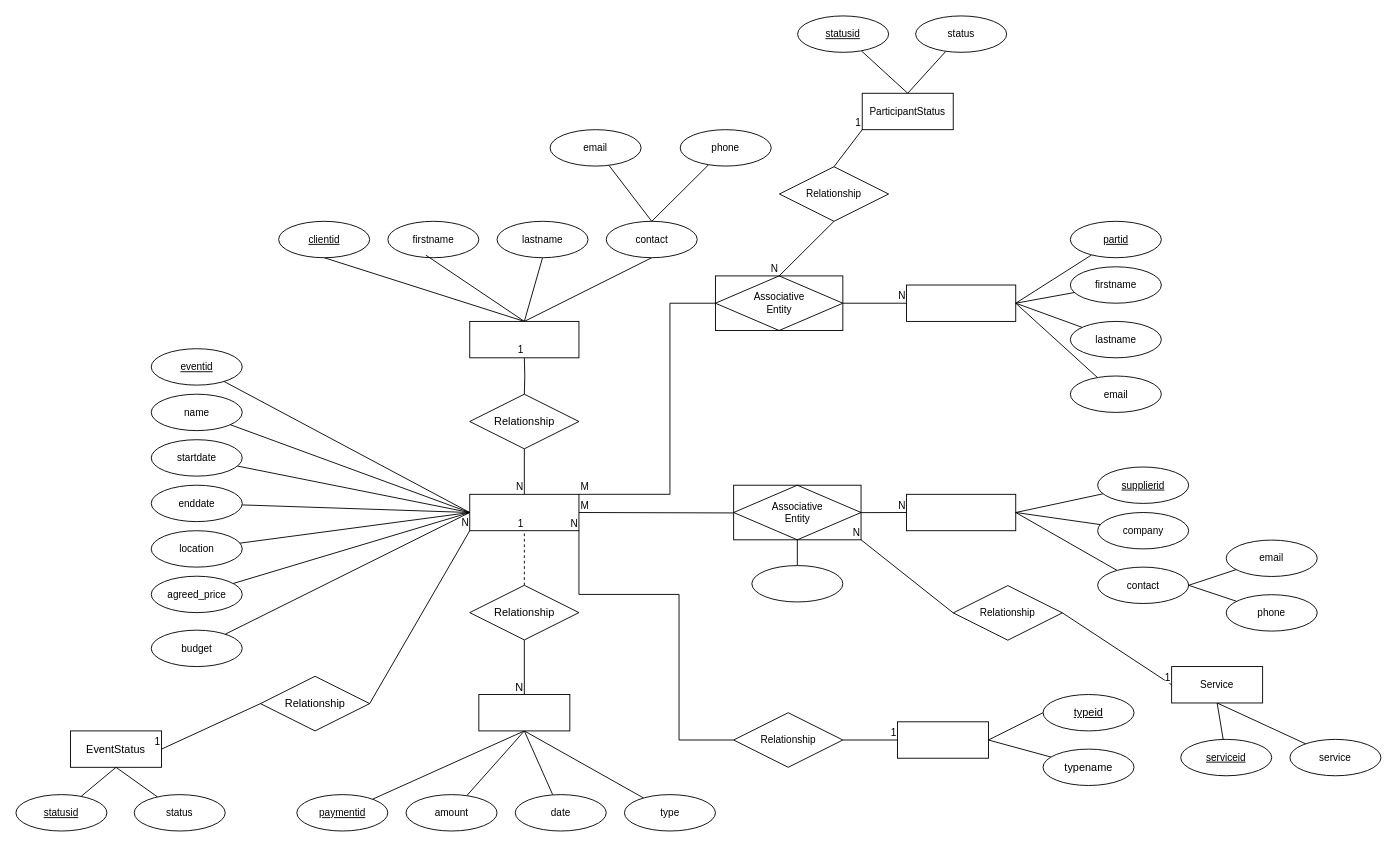
Image size: 1397x847. Some labels were removed from this diagram. Each missing label, with the box of its shape:
Clients: (469, 321, 579, 358)
cost: (751, 565, 843, 602)
Events: (469, 493, 579, 531)
EventType: (897, 721, 988, 758)
Participants: (906, 284, 1016, 321)
Payments: (478, 694, 570, 731)
Suppliers: (906, 493, 1016, 531)
